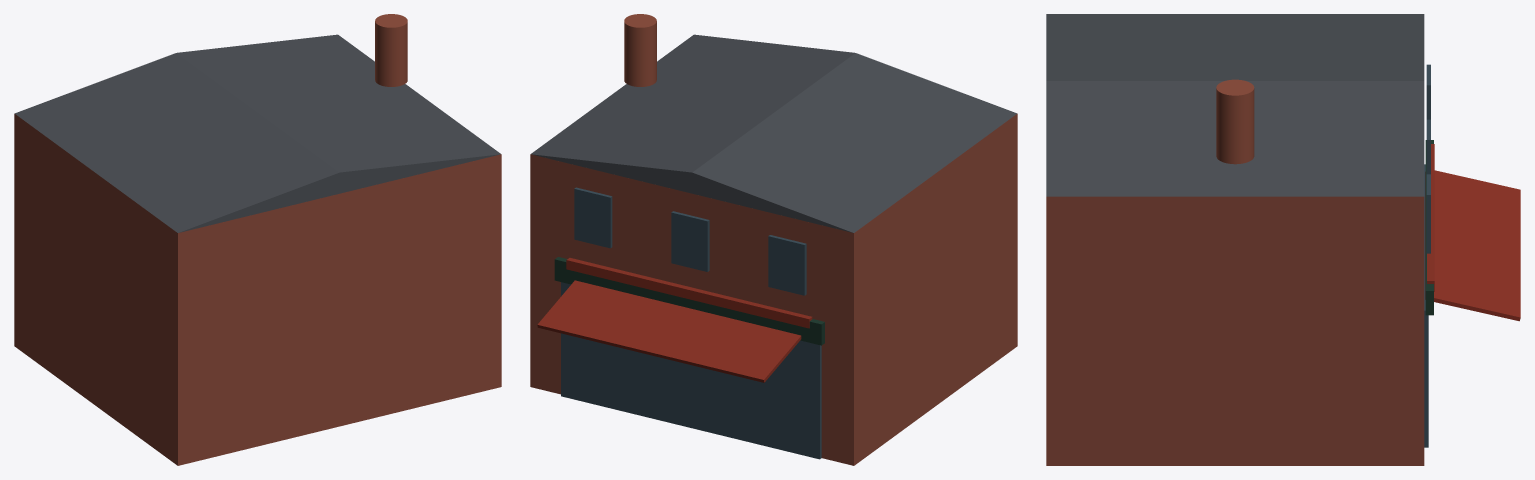
File: d-gb-07-small-shop.glb
3 renders of one model, left to right at view 1: azimuth 30°, elevation 25°; view 2: azimuth 150°, elevation 25°; view 3: azimuth 270°, elevation 25°, orthographic. The views are drawn at different scales.
Visible parts, largest first — view 1: part0, part1, part9; view 2: part0, part1, part2, part5, part4, part3, part9, part7, part6, part8; view 3: part0, part1, part5, part9, part2, part4, part3.
Boxes of the visible parts, bbox=[...] form: part0: bbox=[14, 113, 501, 465]; part1: bbox=[15, 34, 500, 232]; part9: bbox=[375, 14, 407, 86]; part0: bbox=[530, 113, 1017, 465]; part1: bbox=[531, 34, 1016, 232]; part2: bbox=[561, 282, 821, 459]; part5: bbox=[537, 280, 801, 382]; part4: bbox=[566, 258, 812, 328]; part3: bbox=[554, 257, 824, 345]; part9: bbox=[624, 14, 656, 86]; part7: bbox=[671, 211, 709, 271]; part6: bbox=[768, 235, 806, 295]; part8: bbox=[574, 187, 612, 248]; part0: bbox=[1046, 196, 1424, 465]; part1: bbox=[1046, 14, 1424, 196]; part5: bbox=[1425, 170, 1520, 321]; part9: bbox=[1216, 79, 1254, 164]; part2: bbox=[1424, 164, 1428, 447]; part4: bbox=[1427, 144, 1434, 291]; part3: bbox=[1425, 140, 1433, 315].
Bounding box in the file's own units: 8000 × 7400 × 8783.
